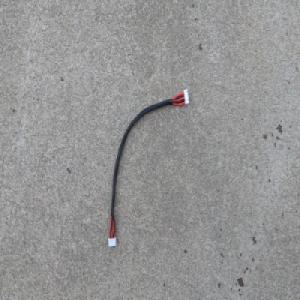Wire: (107, 86, 190, 248)
